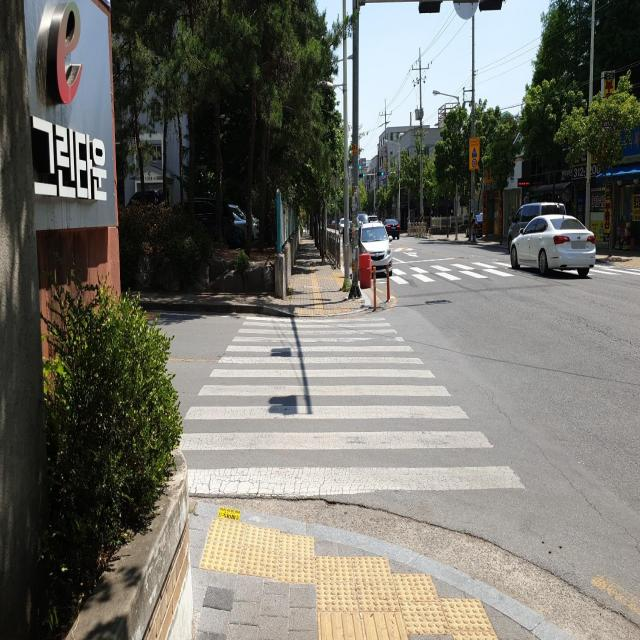횡단보도: (174, 310, 527, 502), (384, 262, 517, 288)
